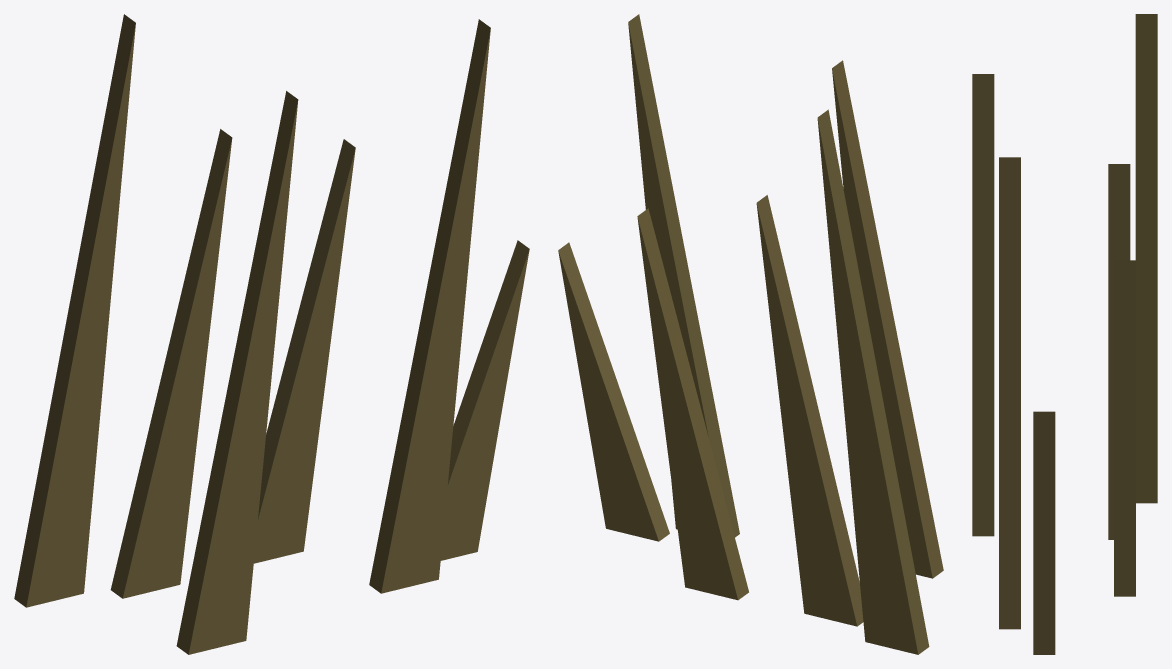
Rendered from SM_ENV_Grass_03_Dry.glb.
3 views of the same model, side by side, from view 1: azimuth 30°, elevation 25°; view 2: azimuth 150°, elevation 25°; view 3: azimuth 270°, elevation 25° (orthographic). The views are drawn at different scales.
Visible parts, largest first — view 1: SM_ENV_Grass_03_Dry; view 2: SM_ENV_Grass_03_Dry; view 3: SM_ENV_Grass_03_Dry.
Boxes of the visible parts, x1,y1,x2,y2 form: SM_ENV_Grass_03_Dry: [14, 14, 529, 654]; SM_ENV_Grass_03_Dry: [558, 14, 943, 654]; SM_ENV_Grass_03_Dry: [972, 14, 1157, 654].
Size of the model in its own units: 0.3876 by 0.4617 by 0.1515.
